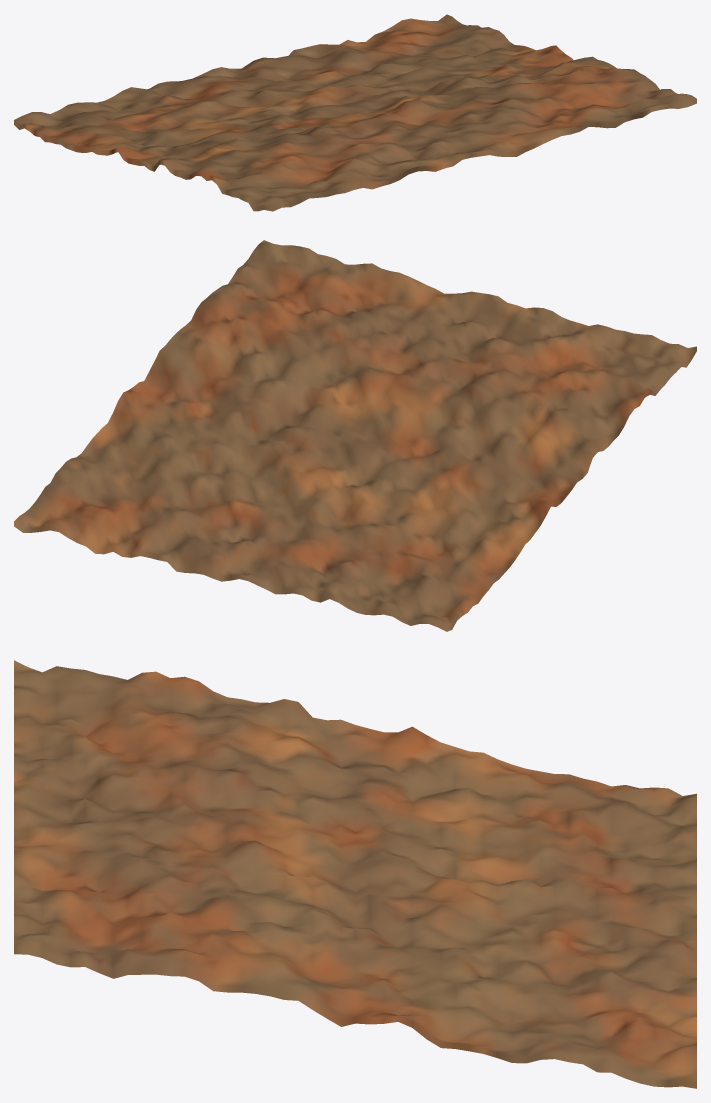
The model's file is terrain-145.glb.
3 renders of one model, top to bottom at view 1: azimuth 30°, elevation 25°; view 2: azimuth 150°, elevation 25°; view 3: azimuth 270°, elevation 25°, orthographic. The views are drawn at different scales.
Parts seen in each view (by area): view 1: terrain-145; view 2: terrain-145; view 3: terrain-145.
Part boxes in pixels (x1,y1,x2,y2): terrain-145: (14, 14, 696, 211); terrain-145: (14, 240, 696, 631); terrain-145: (14, 660, 696, 1088).
Size of the model in its own units: 384 by 97.1 by 384.
